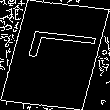L_E: (11, 35, 99, 75)
